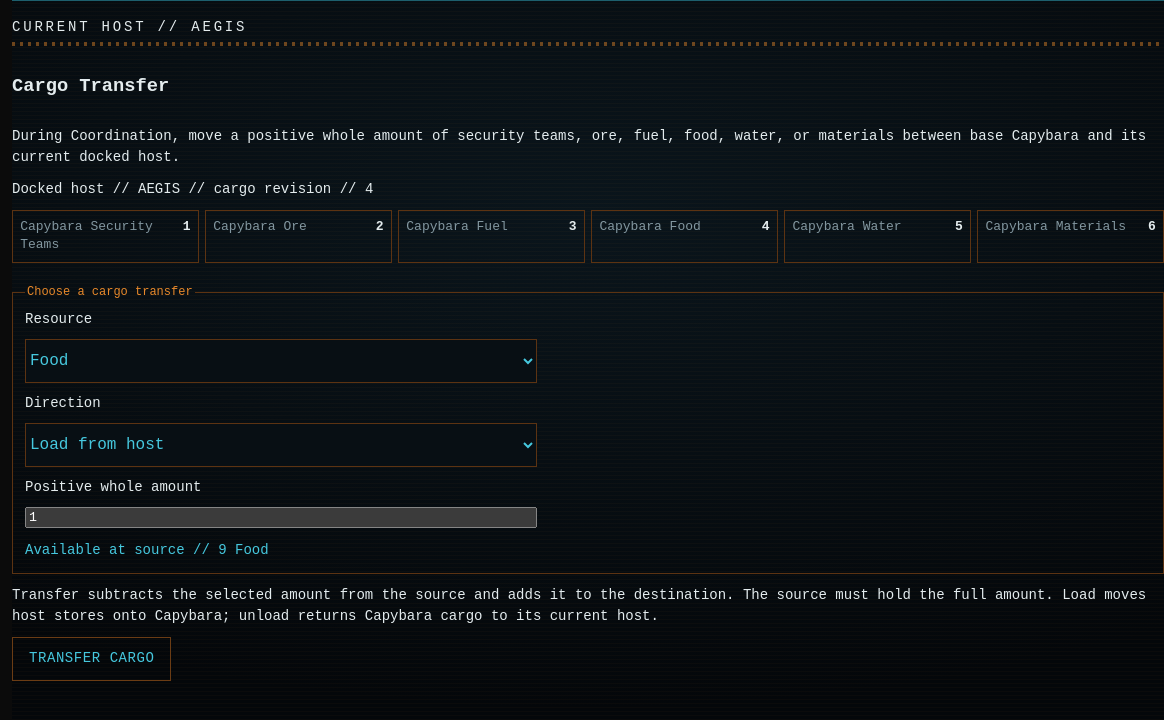
Test: shows the six cargo tracks and submits an exact current-host transfer
Replace the text in the number field labelled "Positive whole amount" with "2" at (281, 518), box [25, 507, 537, 528]
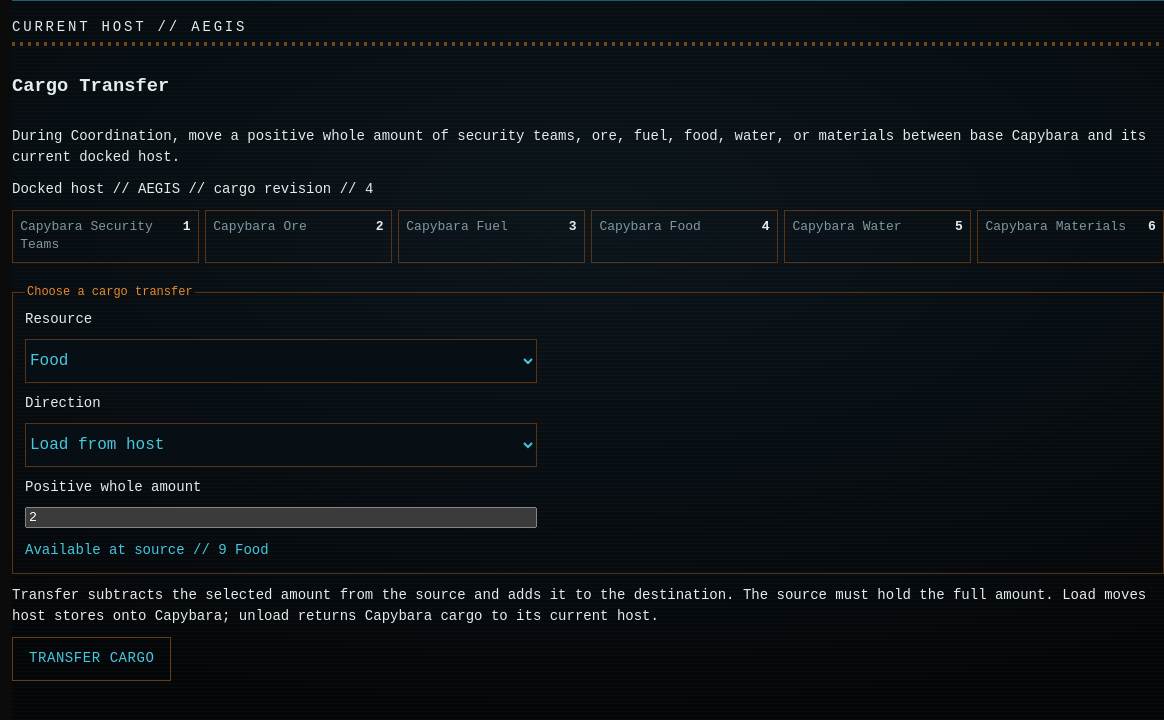
Click the button "Transfer cargo".
click(92, 659)  # box [12, 637, 172, 681]
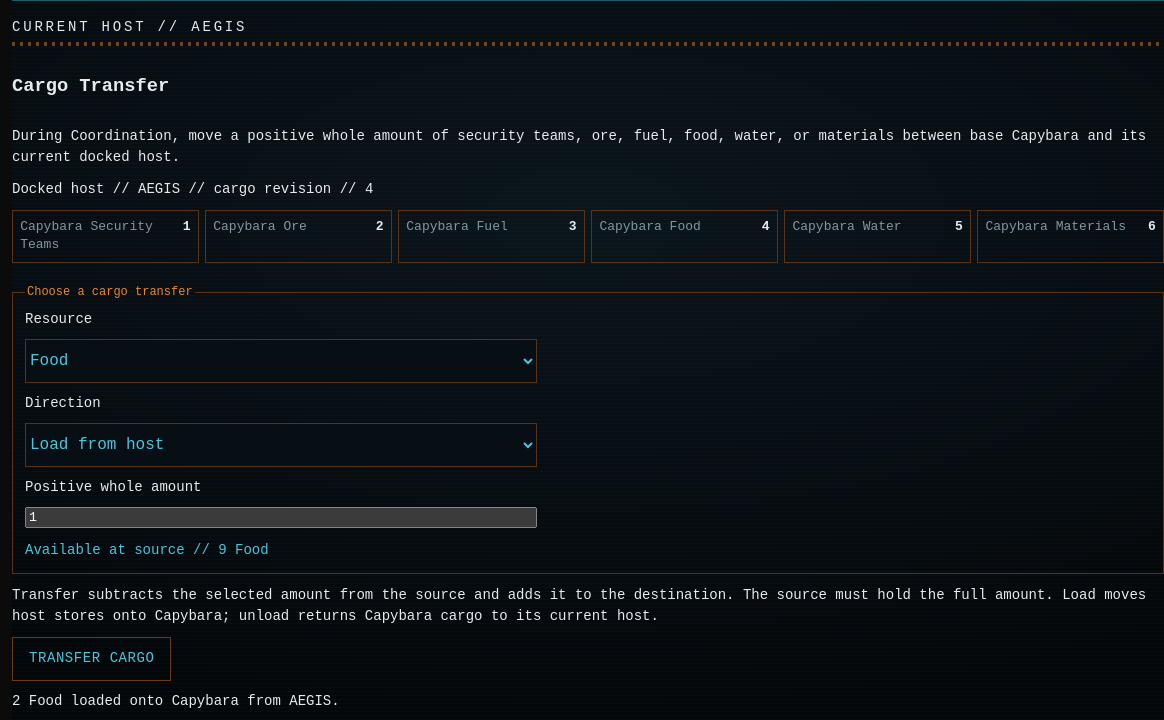
Result: the text "2 Food loaded onto Capybara from AEGIS." is shown at [12, 693, 340, 709]
